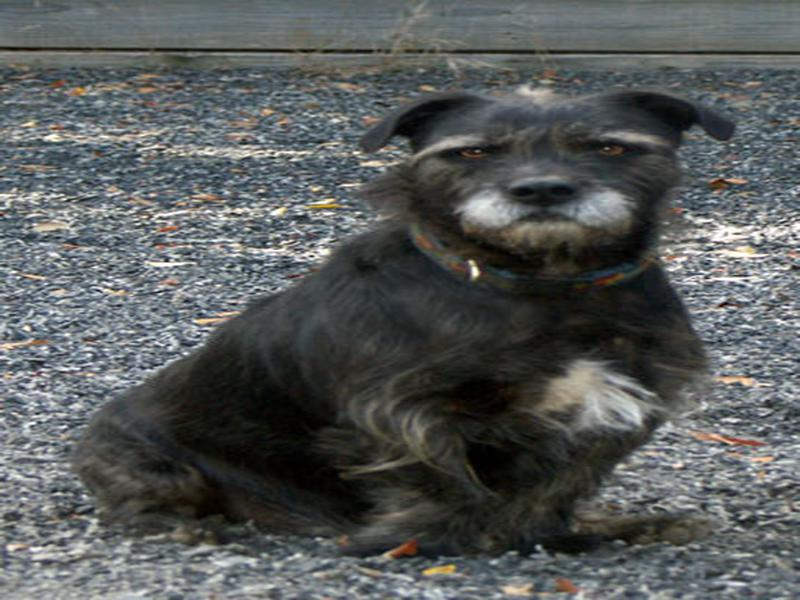dog: (69, 90, 740, 540)
